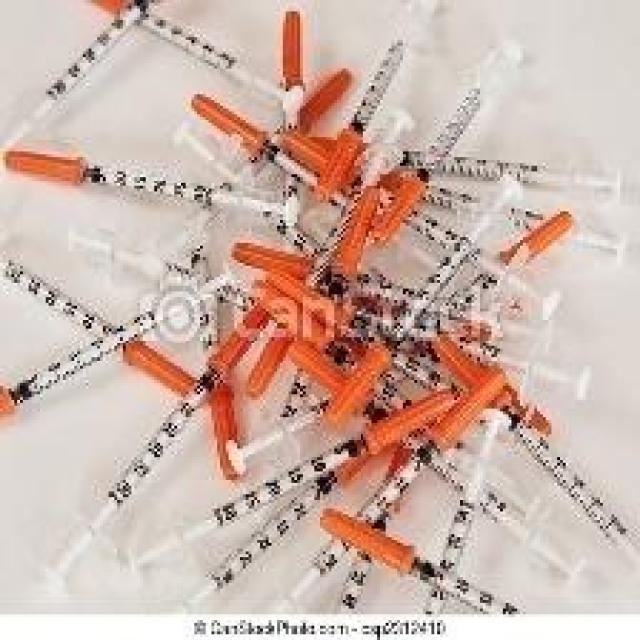syringe: (12, 0, 634, 606)
